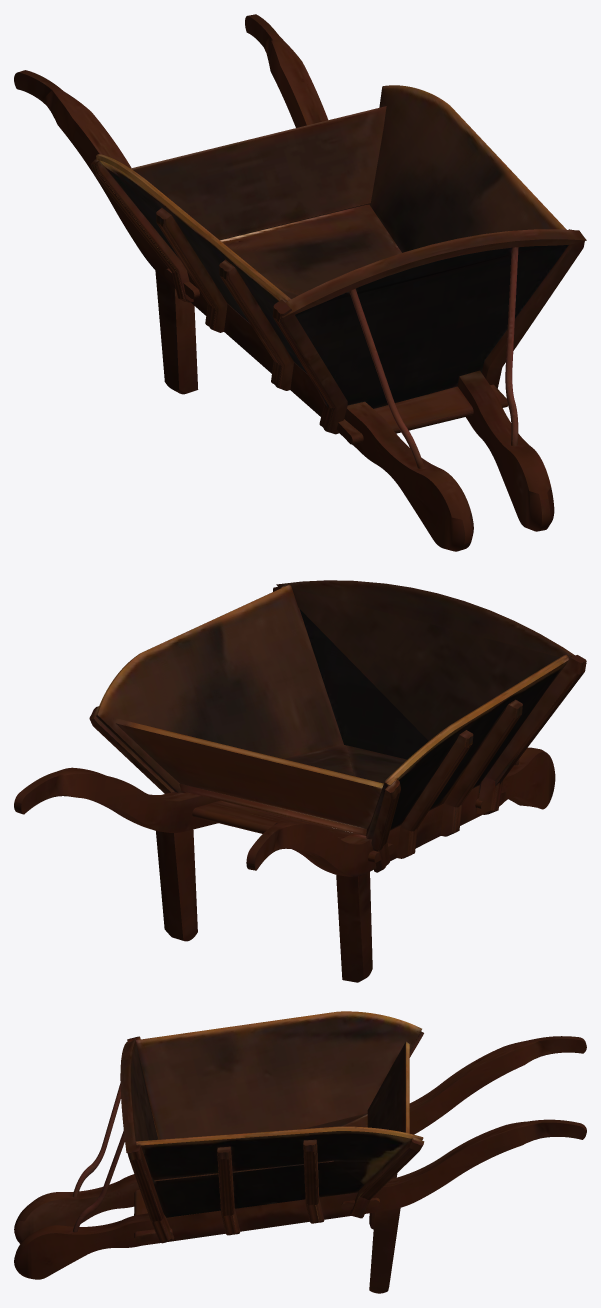
The model's file is link_1__base_body-2.glb.
The picture shows the model from 3 angles, top to bottom: view 1: azimuth 30°, elevation 25°; view 2: azimuth 150°, elevation 25°; view 3: azimuth 270°, elevation 25°; orthographic projection. The views are drawn at different scales.
Visible parts, largest first — view 1: world; view 2: world; view 3: world.
Part boxes in pixels (x1=…): world: x1=14, y1=14, x2=586, y2=551; world: x1=14, y1=580, x2=586, y2=982; world: x1=14, y1=1011, x2=586, y2=1293.
Size of the model in its own units: 0.761 by 0.5866 by 1.58.
1 material, 1 textured.
